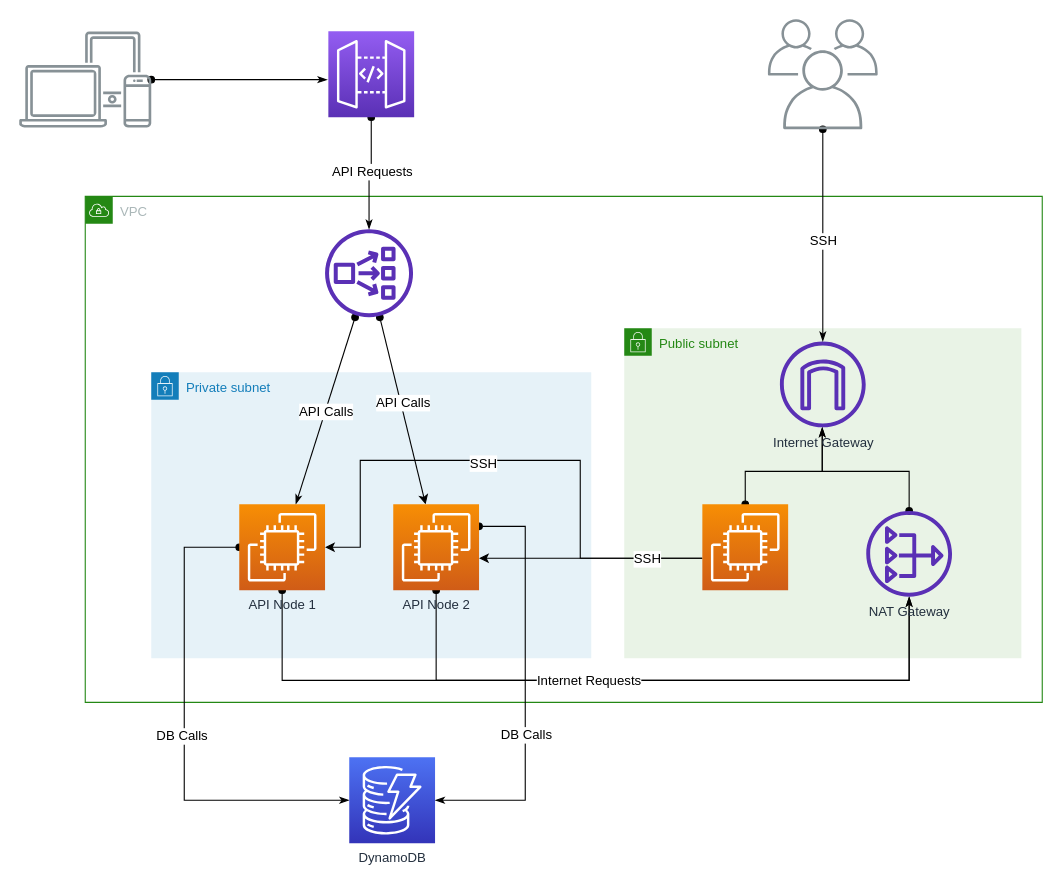
This 1062x884 diagram has some shape labels left out. The centre of each missing label's shape, as x and y in pixels:
"Admins" belongs at point (822, 74).
"Bastion Host" belongs at point (744, 546).
"Clients" belongs at point (85, 79).
"Network Load Balancer" belongs at point (368, 273).
